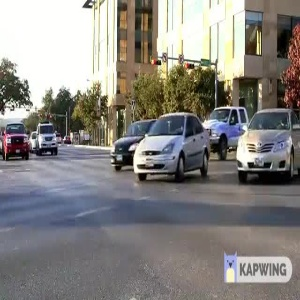car: (130, 109, 210, 187), (228, 107, 300, 185)
